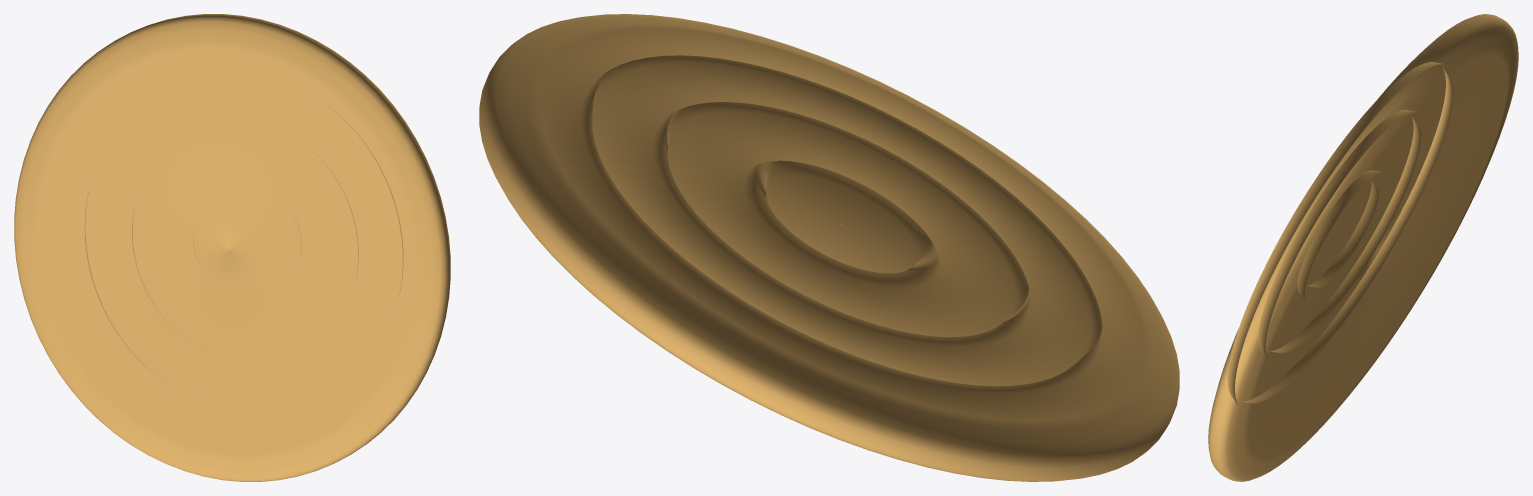
File: disc.glb
3 renders of one model, left to right at view 1: azimuth 30°, elevation 25°; view 2: azimuth 150°, elevation 25°; view 3: azimuth 270°, elevation 25°, orthographic. The views are drawn at different scales.
Visible parts, largest first — view 1: Brass disc; view 2: Brass disc; view 3: Brass disc.
Part boxes in pixels (<box>): Brass disc: <box>14,14,450,481</box>; Brass disc: <box>479,14,1179,481</box>; Brass disc: <box>1208,14,1518,481</box>.
Bounding box in the file's own units: 1.84 × 1.55 × 1.07.
